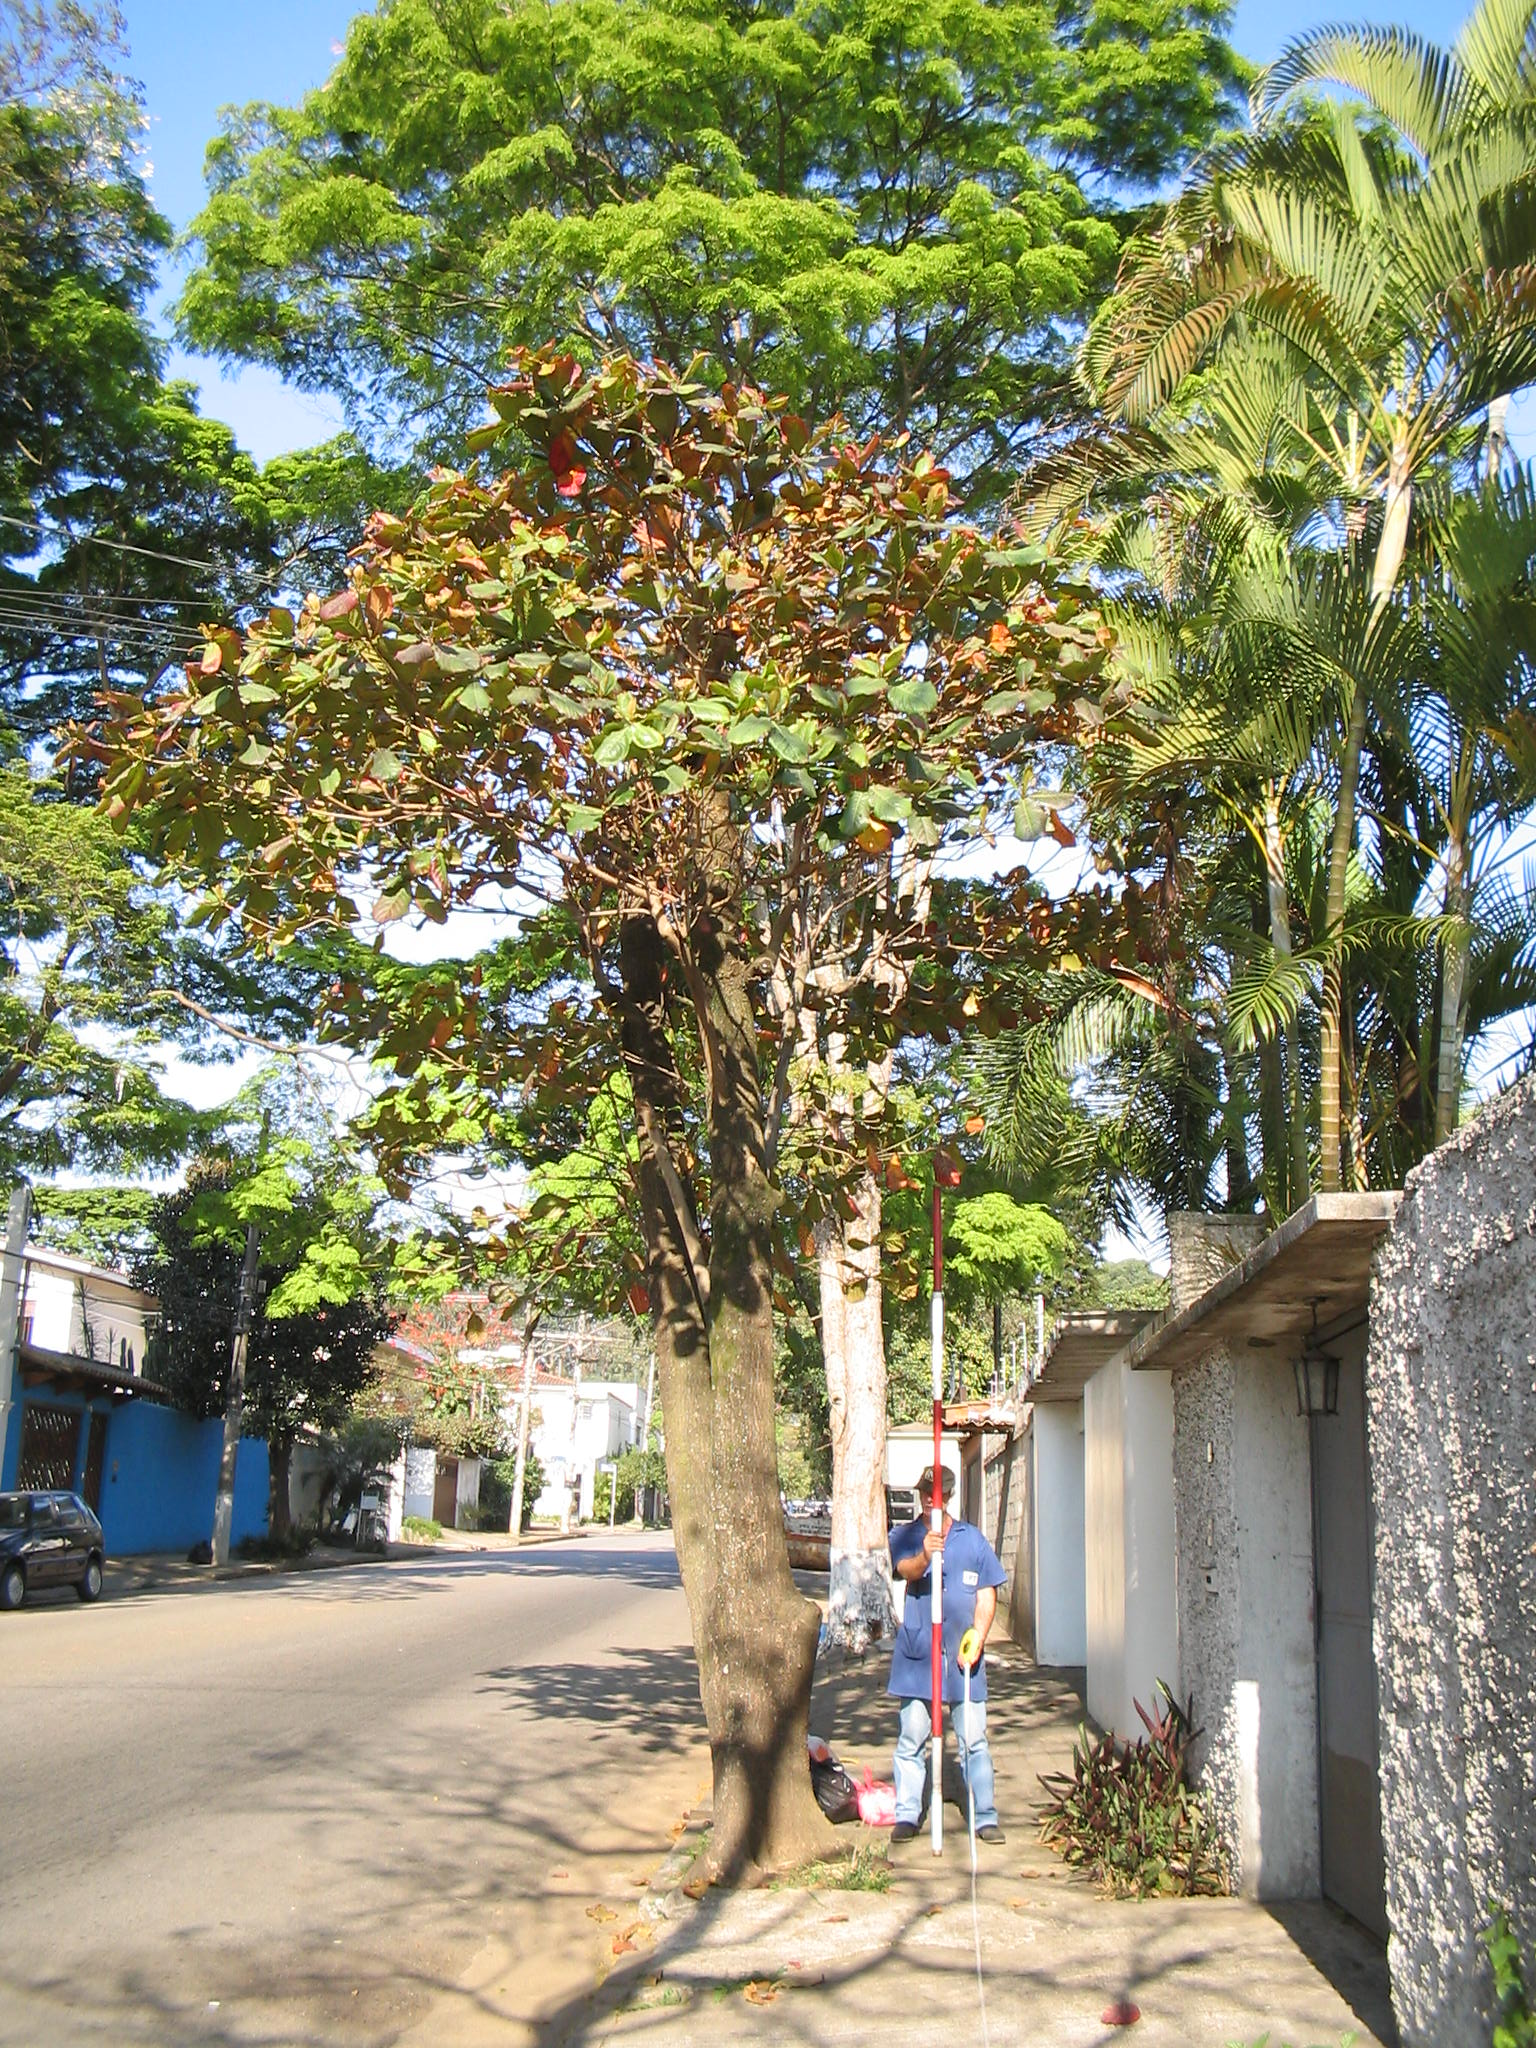crown: (61, 358, 1194, 1292)
stem: (649, 1537, 878, 1879)
stick: (915, 1184, 962, 1858)
tree: (53, 350, 1199, 1874)
